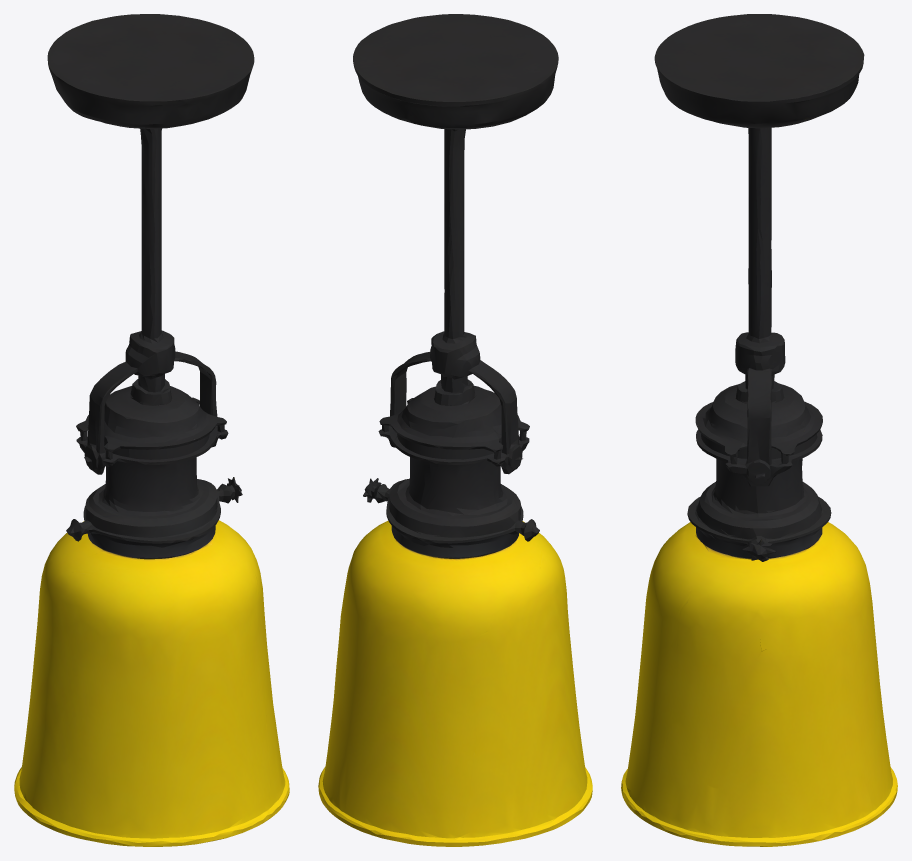
File: pendant.glb
3 views of the same model, side by side, from view 1: azimuth 30°, elevation 25°; view 2: azimuth 150°, elevation 25°; view 3: azimuth 270°, elevation 25° (orthographic).
Visible parts, largest first — view 1: model; view 2: model; view 3: model.
Part boxes in pixels (<box>): model: <box>14,14,289,846</box>; model: <box>318,14,592,846</box>; model: <box>621,14,897,846</box>.
Bounding box in the file's own units: 0.6474 × 1.89 × 0.6495.
Materials: 1 (1 with a texture image).
